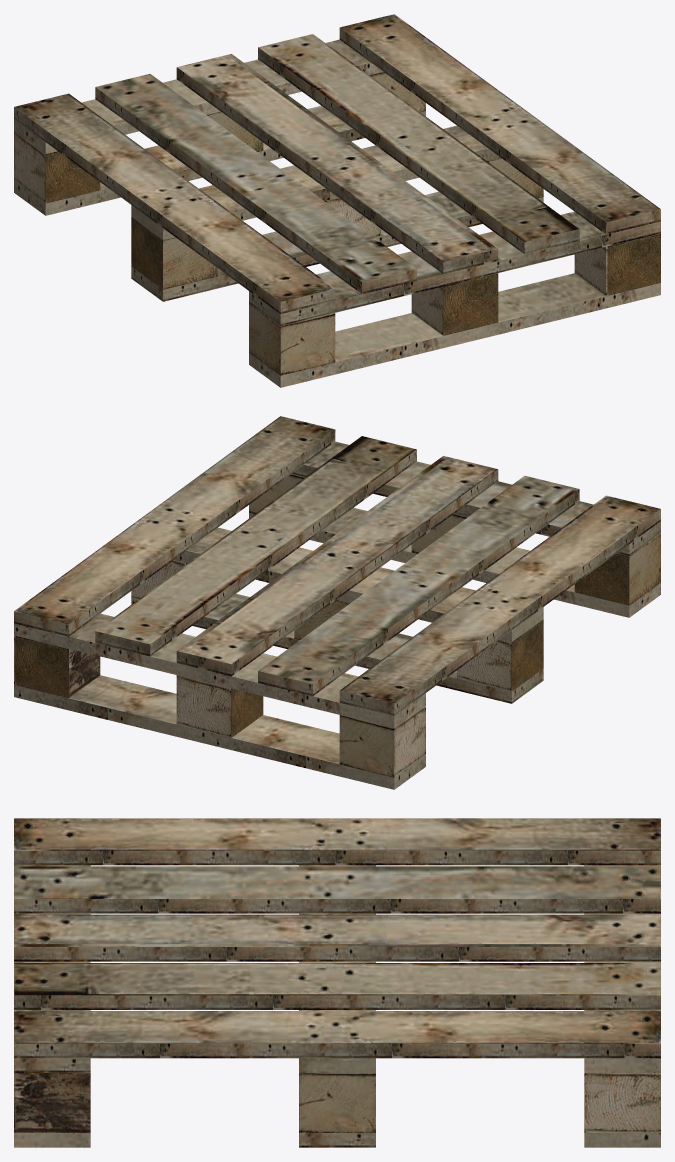
The model's file is pallet.fbx.
The picture shows the model from 3 angles, top to bottom: view 1: azimuth 30°, elevation 25°; view 2: azimuth 150°, elevation 25°; view 3: azimuth 270°, elevation 25°; orthographic projection. The views are drawn at different scales.
Visible parts, largest first — view 1: Pallet; view 2: Pallet; view 3: Pallet.
Boxes of the visible parts, x1,y1,x2,y2 form: Pallet: [14, 14, 660, 387]; Pallet: [14, 416, 660, 789]; Pallet: [14, 818, 660, 1147].
Bounding box in the file's own units: 100 × 21.65 × 122.
1 material, 1 textured.
